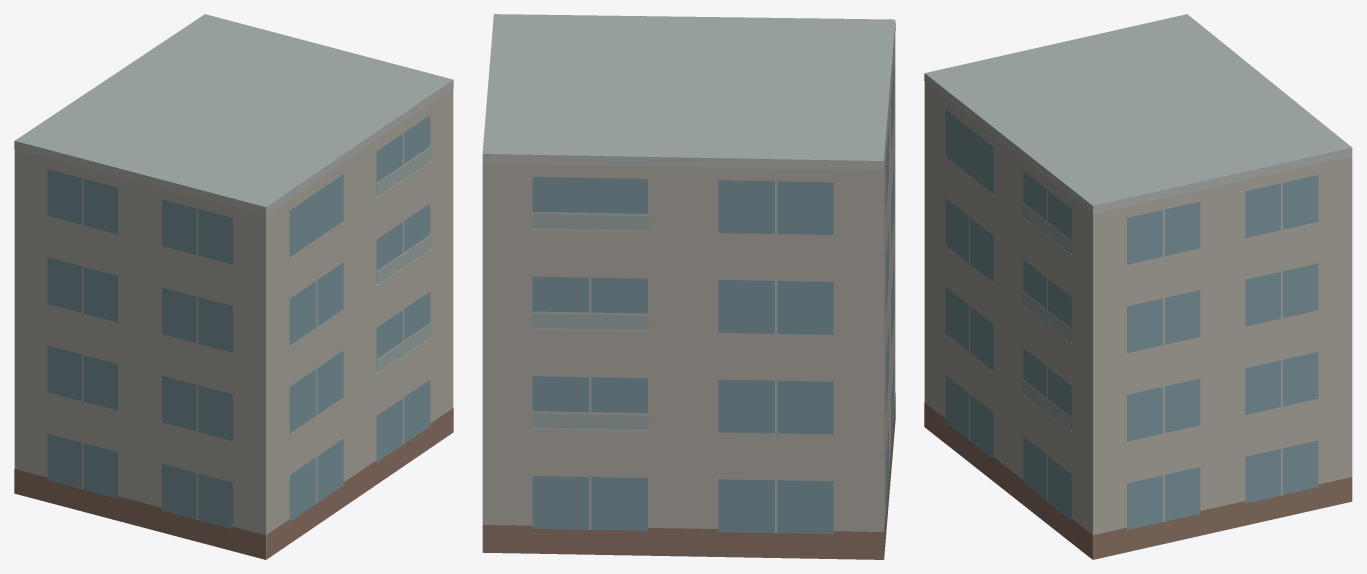
File: survey-upis-33044539.glb
3 views of the same model, side by side, from view 1: azimuth 30°, elevation 25°; view 2: azimuth 150°, elevation 25°; view 3: azimuth 270°, elevation 25° (orthographic). The views are drawn at different scales.
Visible parts, largest first — view 1: survey-upis-33044539.tmp; view 2: survey-upis-33044539.tmp; view 3: survey-upis-33044539.tmp.
Part boxes in pixels (<box>): survey-upis-33044539.tmp: <box>14,14,453,559</box>; survey-upis-33044539.tmp: <box>482,14,895,559</box>; survey-upis-33044539.tmp: <box>924,14,1352,559</box>.
Size of the model in its own units: 12.11 by 10.4 by 11.4.
